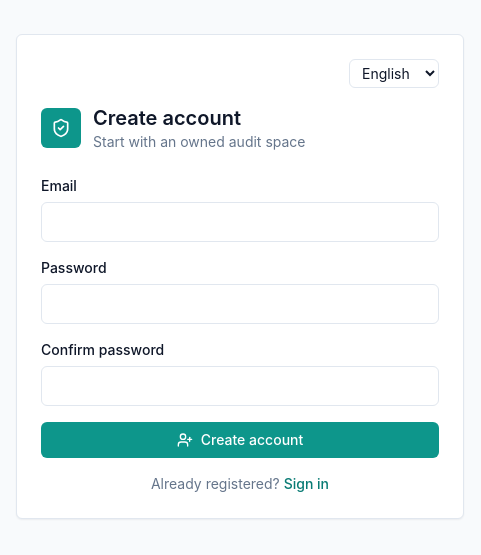
Test: register page › shows register API errors
The width and height of the screenshot is (481, 555).
In the field labelled "Email": (240, 222) top-left (41, 202), bottom-right (439, 242), type "user@example.com"
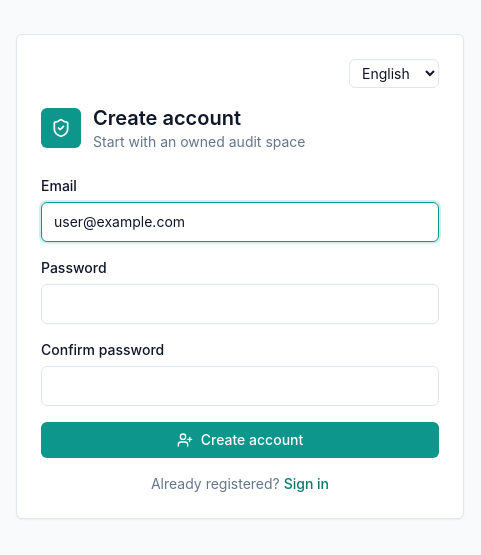
In the password field labelled "Password": (240, 304) top-left (41, 284), bottom-right (439, 324), type "secret"
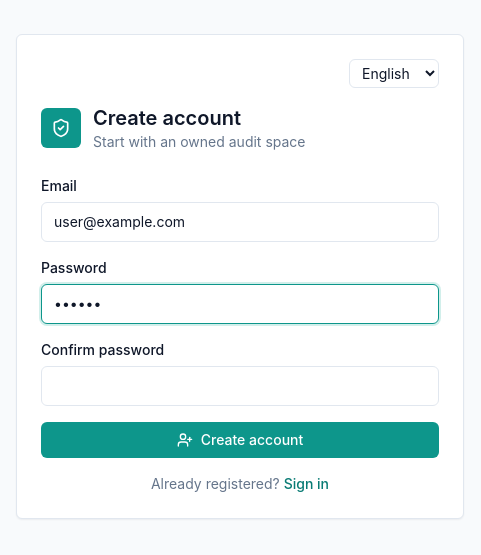
In the password field labelled "Confirm password": (240, 386) top-left (41, 366), bottom-right (439, 406), type "secret"
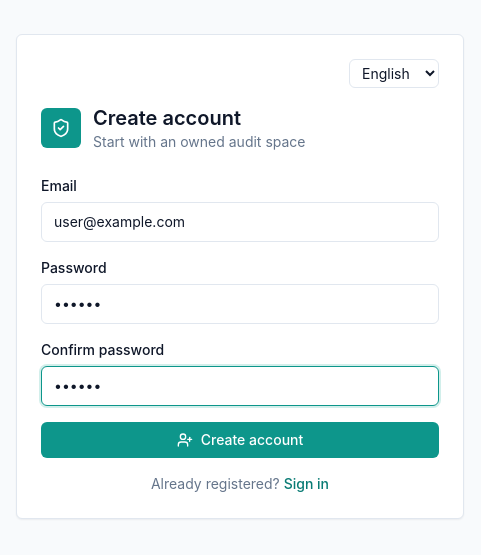
Click the button "Create account": (240, 440) top-left (41, 422), bottom-right (439, 458)
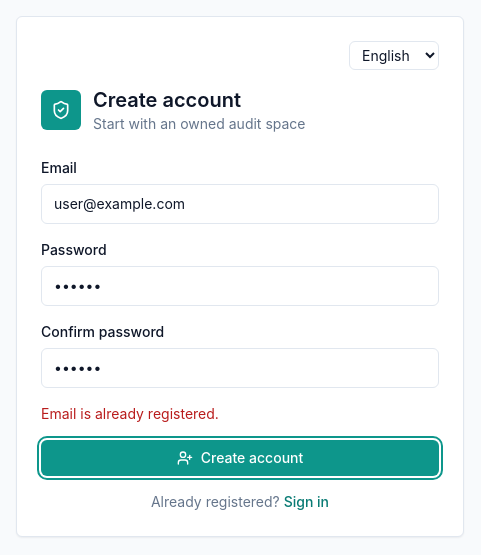
Expected: the text "Email is already registered." is shown, top-left (41, 404), bottom-right (219, 422)
